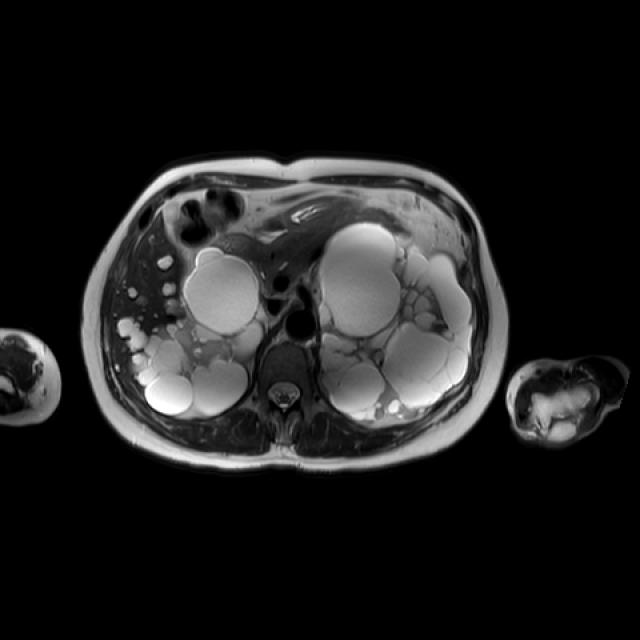sag: (139, 245, 262, 416)
sol: (320, 223, 475, 423)
